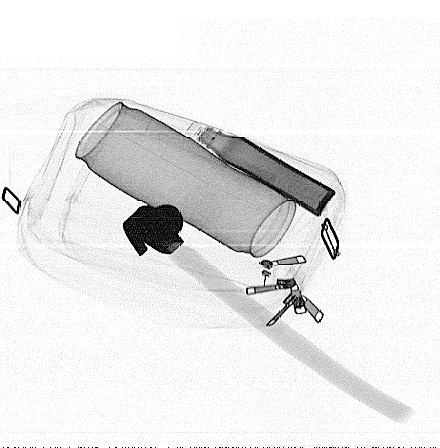Hammer: (122, 203, 414, 424)
